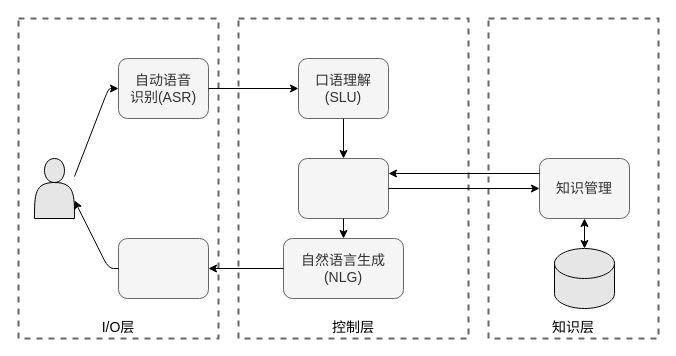
This 676x356 diagram has some shape labels left out. The centre of each missing label's shape, as x and y in pixels:
对话管理(DM): pixel 343 188
知识库: pixel 584 278
语音合成(TTS): pixel 163 268
